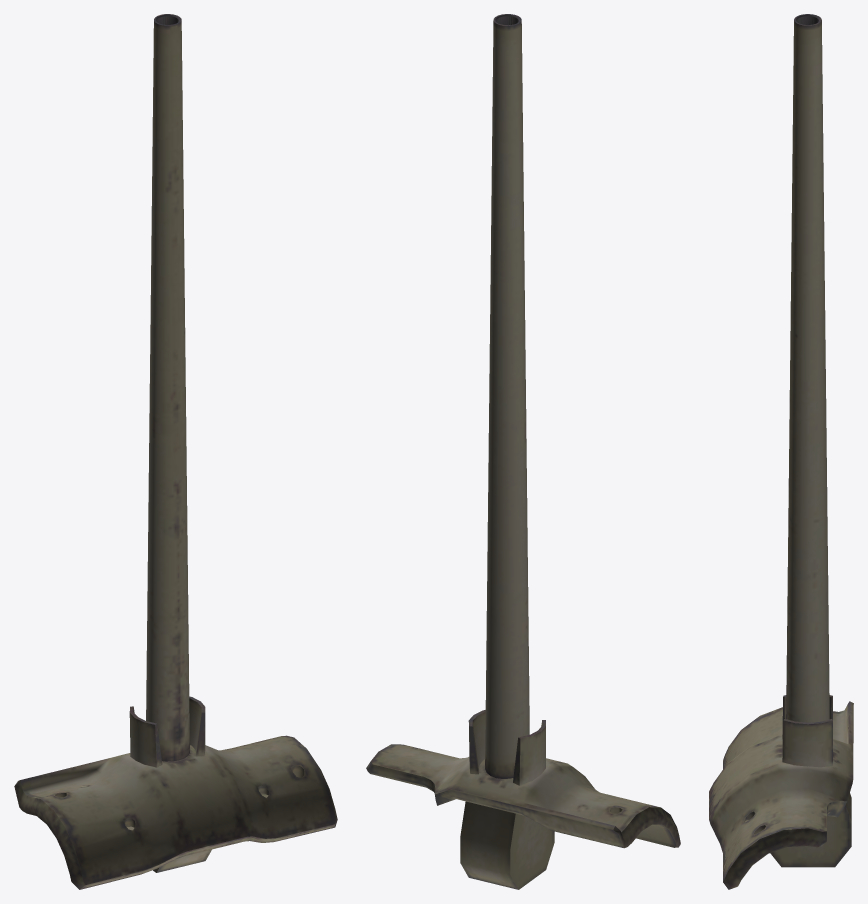
File: Gun_02.glb
3 views of the same model, side by side, from view 1: azimuth 30°, elevation 25°; view 2: azimuth 150°, elevation 25°; view 3: azimuth 270°, elevation 25° (orthographic). The views are drawn at different scales.
Parts seen in each view (by area): view 1: set_0_group_0; view 2: set_0_group_0; view 3: set_0_group_0.
Part boxes in pixels (bbox=[...]): set_0_group_0: bbox=[14, 14, 337, 889]; set_0_group_0: bbox=[366, 14, 680, 889]; set_0_group_0: bbox=[709, 14, 853, 889].
Bounding box in the file's own units: 1.04 × 3.18 × 0.4989.
Materials: 1 (1 with a texture image).
